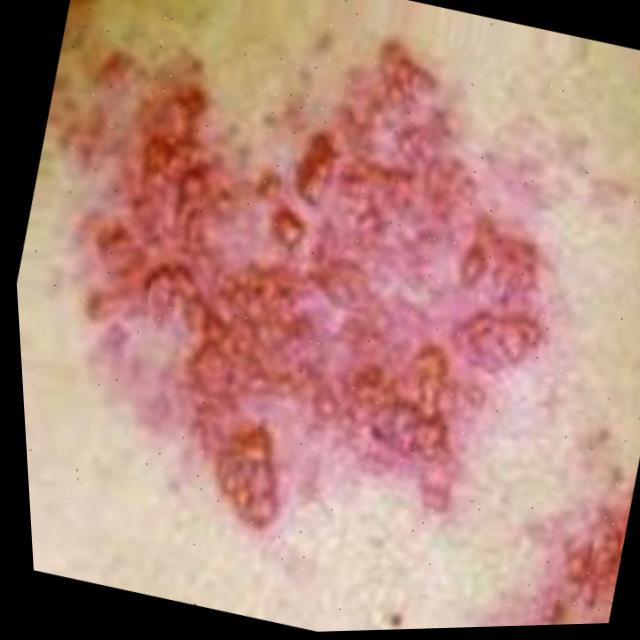Shingles: (0, 0, 604, 581), (494, 473, 639, 626)
